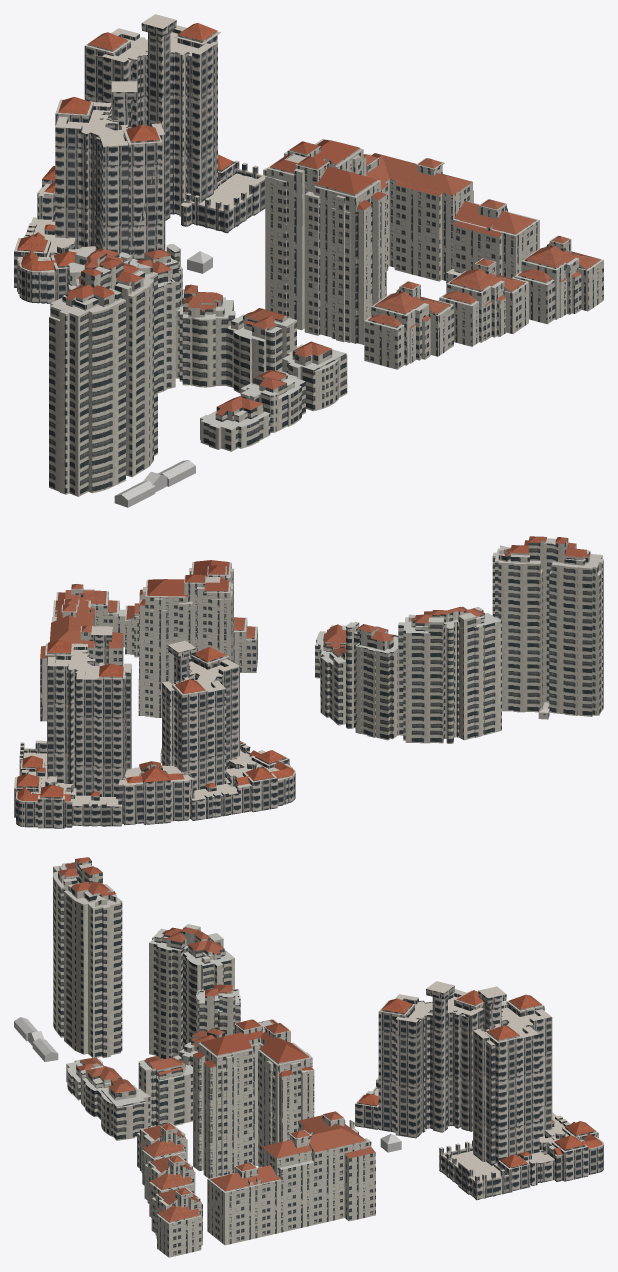
3 views of the same model, one above another, from view 1: azimuth 30°, elevation 25°; view 2: azimuth 150°, elevation 25°; view 3: azimuth 270°, elevation 25° (orthographic). The views are drawn at different scales.
Parts seen in each view (by area): view 1: Tanjong Rhu waterway residences; view 2: Tanjong Rhu waterway residences; view 3: Tanjong Rhu waterway residences.
Part boxes in pixels (bbox=[...]): Tanjong Rhu waterway residences: bbox=[14, 14, 603, 507]; Tanjong Rhu waterway residences: bbox=[14, 536, 603, 828]; Tanjong Rhu waterway residences: bbox=[14, 857, 603, 1257].
Size of the model in its own units: 238 by 77.4 by 241.
8 materials, 8 textured.
